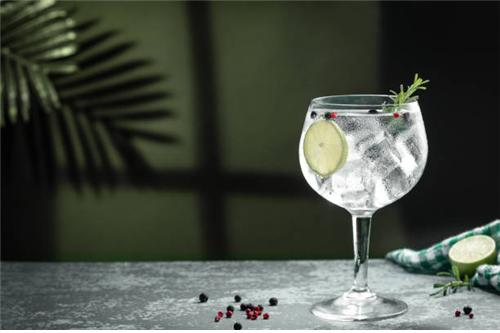alcohol: (298, 93, 429, 324)
